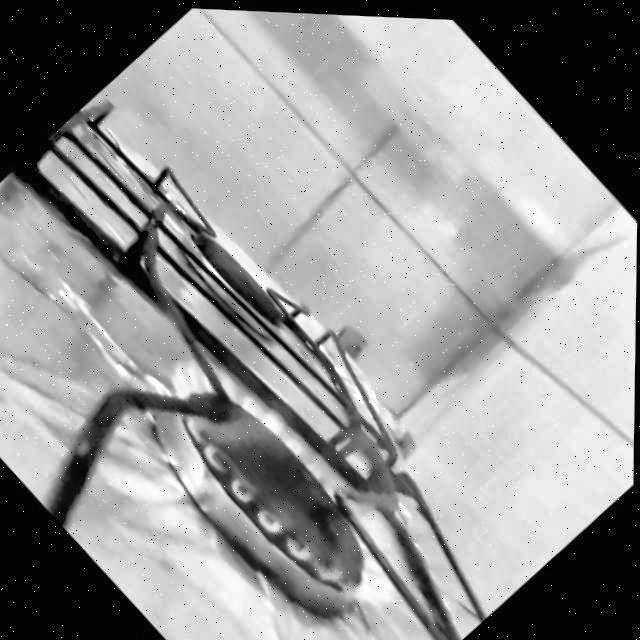Fire: (133, 255, 506, 639)
